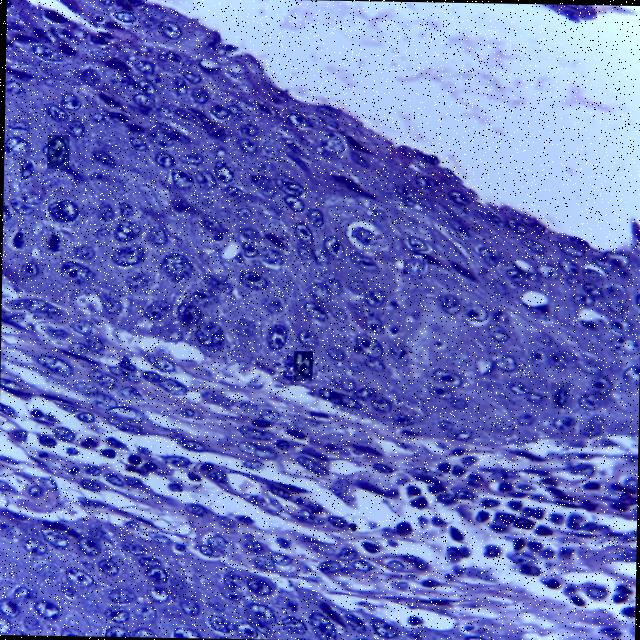Multiple Nucleol: (261, 321, 288, 350), (46, 134, 68, 167), (292, 351, 311, 381), (550, 383, 570, 408), (407, 256, 421, 278)
